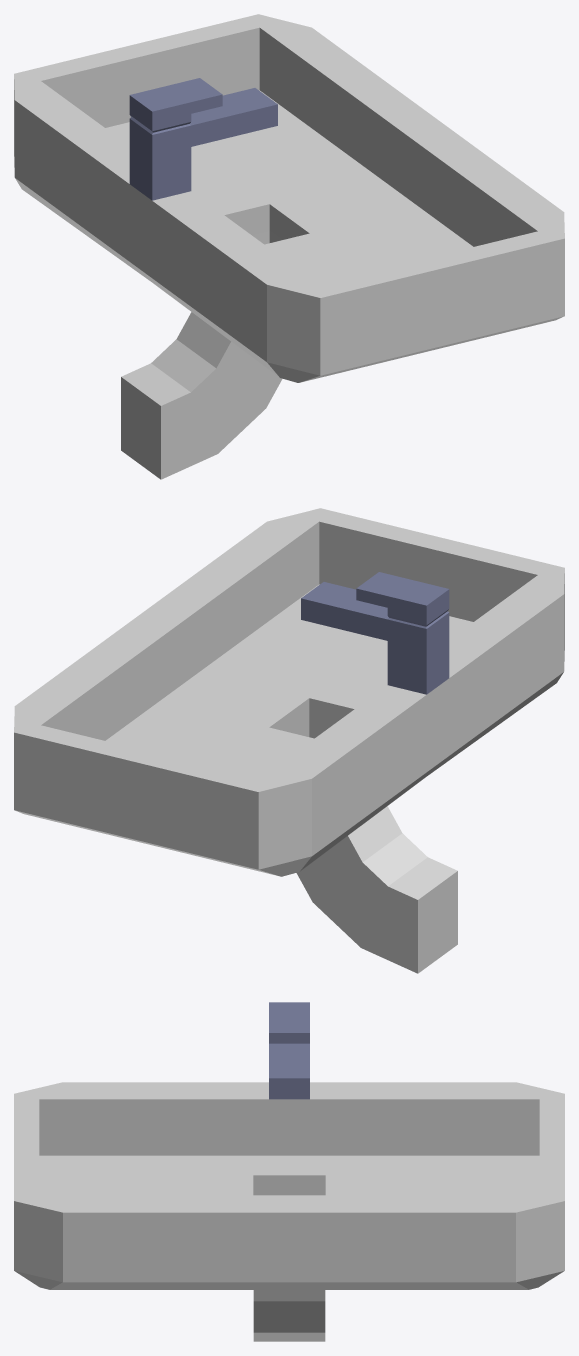
File: umyvadlo.fbx
3 views of the same model, one above another, from view 1: azimuth 30°, elevation 25°; view 2: azimuth 150°, elevation 25°; view 3: azimuth 270°, elevation 25° (orthographic). The views are drawn at different scales.
Visible parts, largest first — view 1: Cube; view 2: Cube; view 3: Cube.
Part boxes in pixels (x1=…): Cube: x1=14, y1=14, x2=564, y2=479; Cube: x1=14, y1=508, x2=564, y2=973; Cube: x1=14, y1=1002, x2=564, y2=1341.
Bounding box in the file's own units: 200 × 233 × 357.
